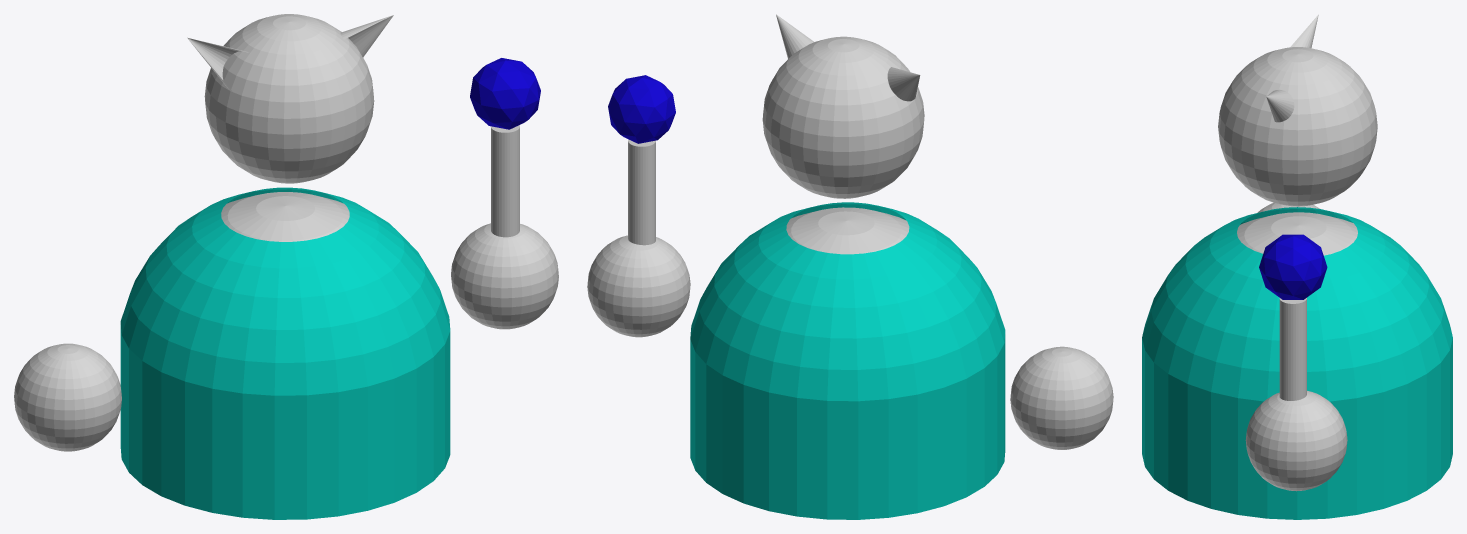
File: ExportedBlenderFBXFile.fbx
The picture shows the model from 3 angles, left to right: view 1: azimuth 30°, elevation 25°; view 2: azimuth 150°, elevation 25°; view 3: azimuth 270°, elevation 25°; orthographic projection. The views are drawn at different scales.
Parts seen in each view (by area): view 1: Sphere_004, Sphere_003, Sphere_001, Sphere_002, Sphere, Icosphere, Cylinder, Cone_001, Cone; view 2: Sphere_004, Sphere_003, Sphere_001, Sphere_002, Sphere, Icosphere, Cylinder, Cone, Cone_001; view 3: Sphere_004, Sphere_003, Sphere_002, Icosphere, Sphere, Cylinder, Cone_001, Cone.
Boxes of the visible parts, x1,y1,x2,y2 form: Sphere_004: [120, 187, 450, 519]; Sphere_003: [204, 14, 374, 183]; Sphere_001: [14, 343, 121, 451]; Sphere_002: [451, 223, 558, 329]; Sphere: [221, 192, 349, 241]; Icosphere: [470, 58, 540, 129]; Cylinder: [491, 125, 519, 237]; Cone_001: [340, 15, 393, 57]; Cone: [187, 37, 248, 91]; Sphere_004: [690, 202, 1005, 519]; Sphere_003: [762, 36, 924, 198]; Sphere_001: [1010, 346, 1113, 449]; Sphere_002: [587, 235, 690, 337]; Sphere: [786, 207, 909, 254]; Icosphere: [608, 75, 675, 143]; Cylinder: [628, 139, 655, 245]; Cone: [887, 67, 920, 101]; Cone_001: [776, 14, 814, 58]; Sphere_004: [1142, 207, 1452, 519]; Sphere_003: [1218, 47, 1377, 206]; Sphere_002: [1245, 391, 1347, 491]; Icosphere: [1259, 234, 1327, 299]; Sphere: [1237, 212, 1357, 255]; Cylinder: [1279, 298, 1306, 400]; Cone_001: [1266, 89, 1294, 122]; Cone: [1290, 14, 1318, 47].
Size of the model in its own units: 4.37 by 3.59 by 2.35.
